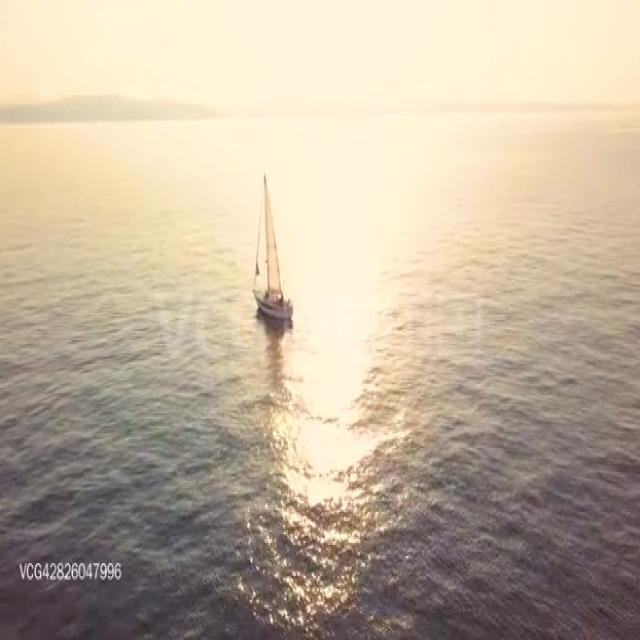sailboat: (251, 166, 295, 324)
